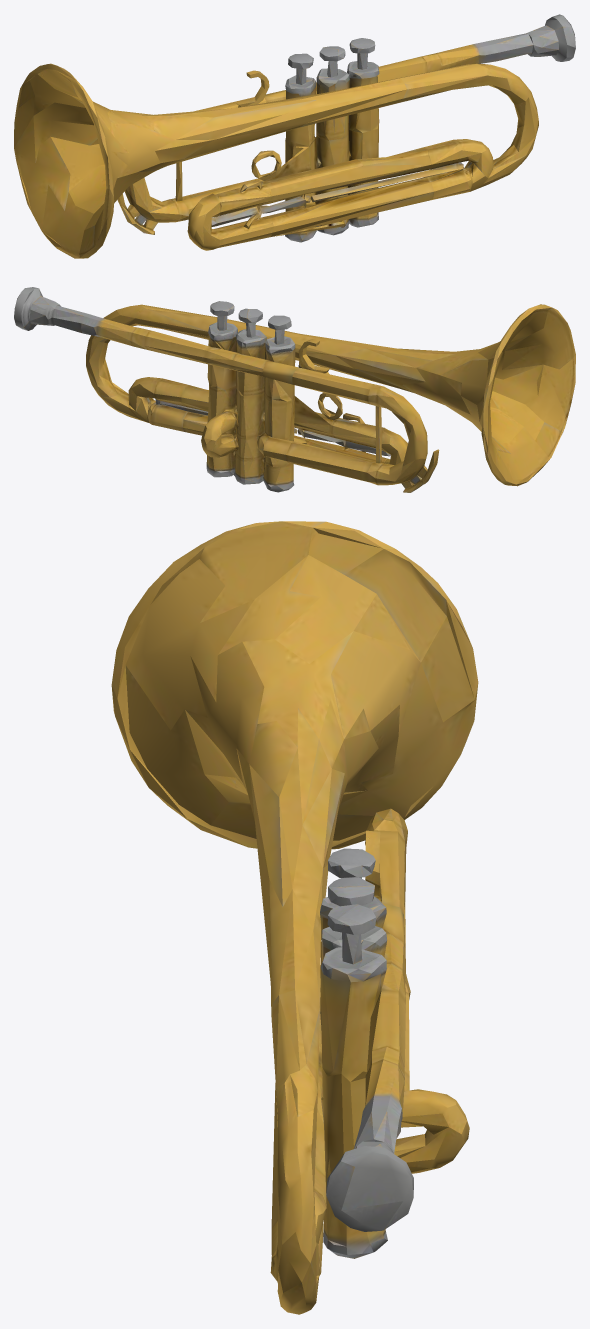
Rendered from trumpet.glb.
3 renders of one model, top to bottom at view 1: azimuth 30°, elevation 25°; view 2: azimuth 150°, elevation 25°; view 3: azimuth 270°, elevation 25°, orthographic. The views are drawn at different scales.
Parts seen in each view (by area): view 1: output_unwrapped; view 2: output_unwrapped; view 3: output_unwrapped.
Part boxes in pixels (<box>): output_unwrapped: <box>14,14,575,258</box>; output_unwrapped: <box>14,287,575,492</box>; output_unwrapped: <box>111,521,478,1314</box>.
Size of the model in its own units: 1.9 by 0.8245 by 0.6143.
1 material, 1 textured.
